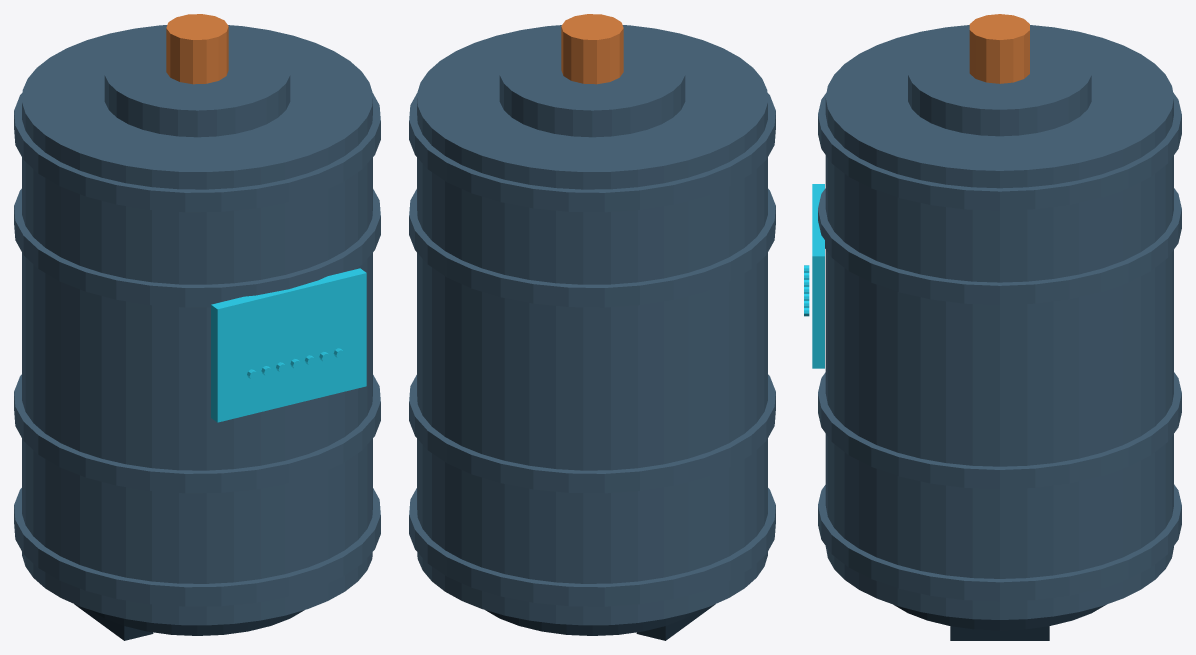
The model's file is 32_L75_TurbomolecularVacuumPump.fbx.
The picture shows the model from 3 angles, left to right: view 1: azimuth 30°, elevation 25°; view 2: azimuth 150°, elevation 25°; view 3: azimuth 270°, elevation 25°; orthographic projection.
Parts seen in each view (by area): view 1: TurbomolecularVacuumPump; view 2: TurbomolecularVacuumPump; view 3: TurbomolecularVacuumPump.
Boxes of the visible parts, bbox=[...] form: TurbomolecularVacuumPump: bbox=[14, 14, 380, 640]; TurbomolecularVacuumPump: bbox=[409, 14, 775, 640]; TurbomolecularVacuumPump: bbox=[804, 14, 1181, 640].
Size of the model in its own units: 94.05 by 161 by 97.62.
